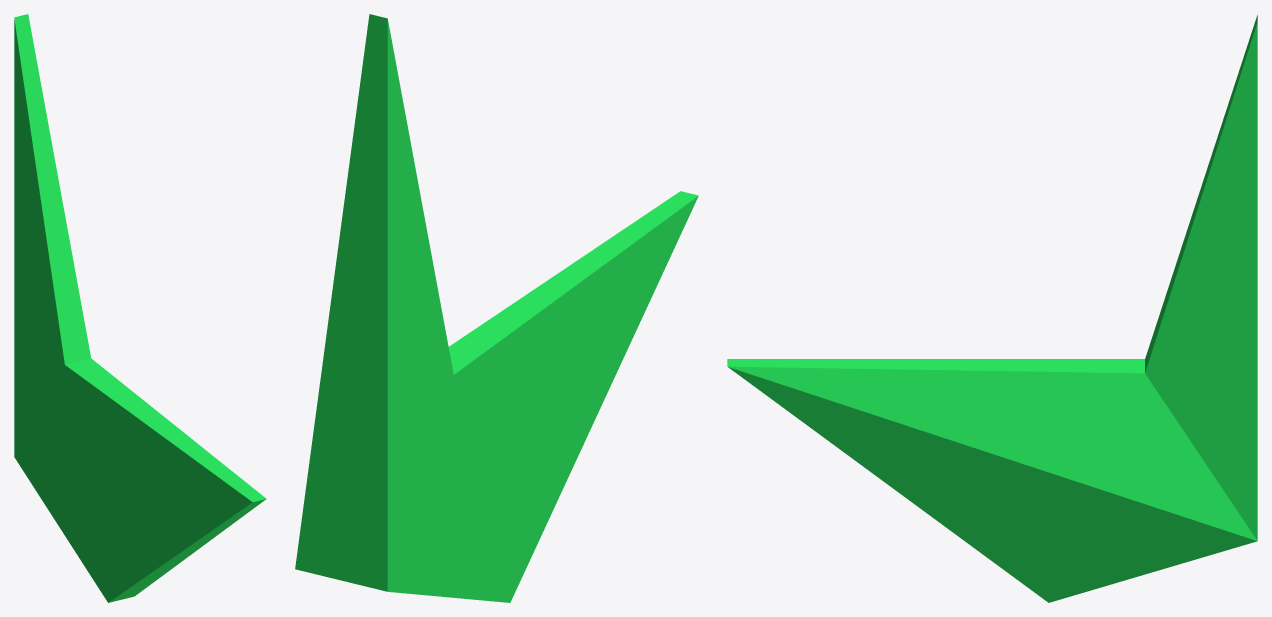
File: Green Star Fragment 2.glb
3 renders of one model, left to right at view 1: azimuth 30°, elevation 25°; view 2: azimuth 150°, elevation 25°; view 3: azimuth 270°, elevation 25°, orthographic. The views are drawn at different scales.
Visible parts, largest first — view 1: Start Fragment 2.002; view 2: Start Fragment 2.002; view 3: Start Fragment 2.002.
Boxes of the visible parts, x1,y1,x2,y2 form: Start Fragment 2.002: [14, 14, 266, 602]; Start Fragment 2.002: [295, 14, 698, 602]; Start Fragment 2.002: [727, 15, 1257, 602].
Size of the model in its own units: 0.3469 by 2.41 by 2.02.
1 material, 1 textured.
